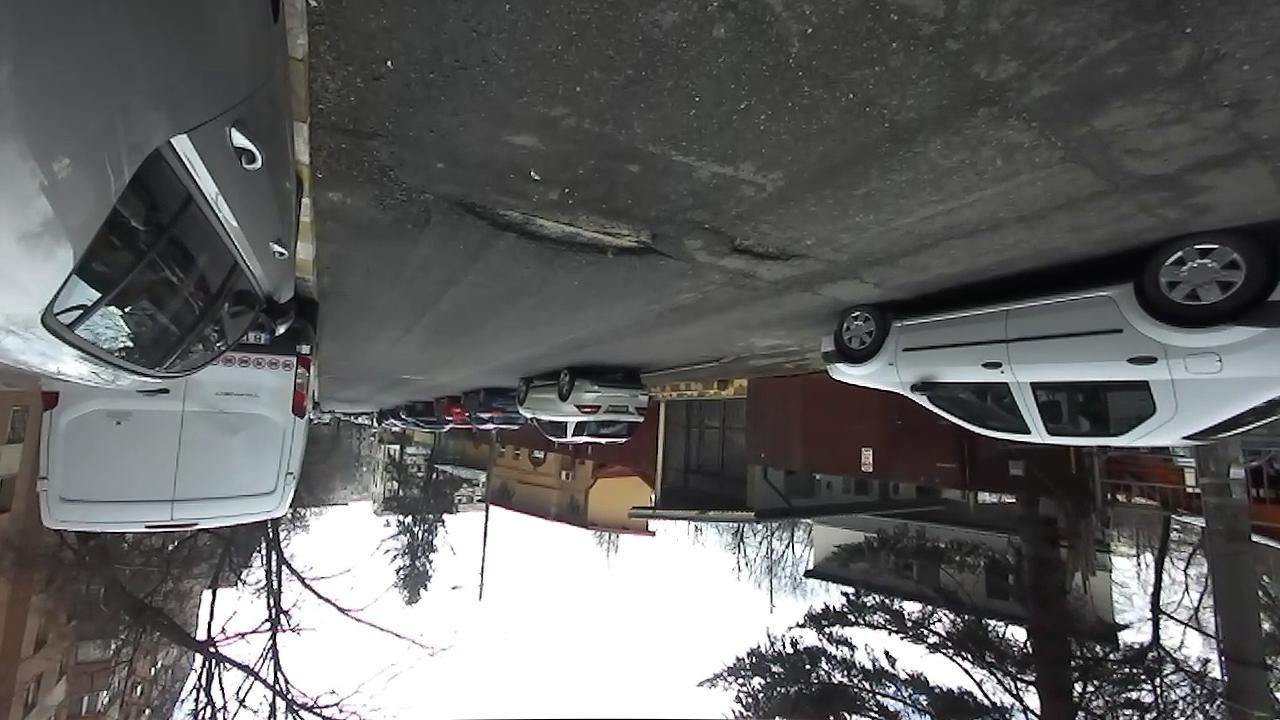pothole: (443, 192, 682, 263), (705, 225, 806, 266)
